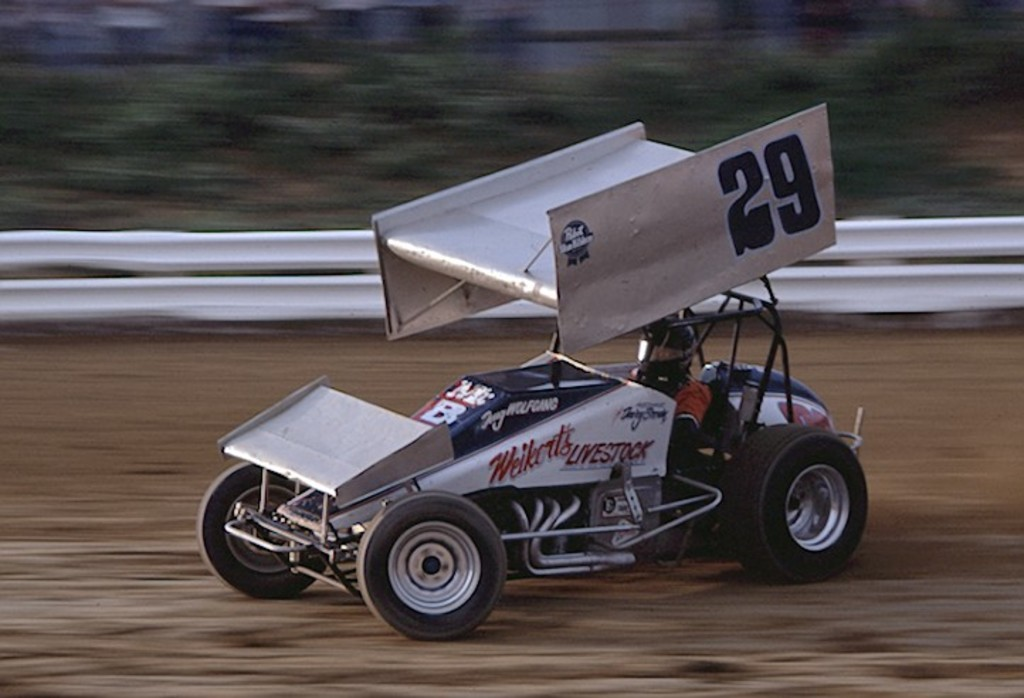Car: (198, 103, 867, 642)
